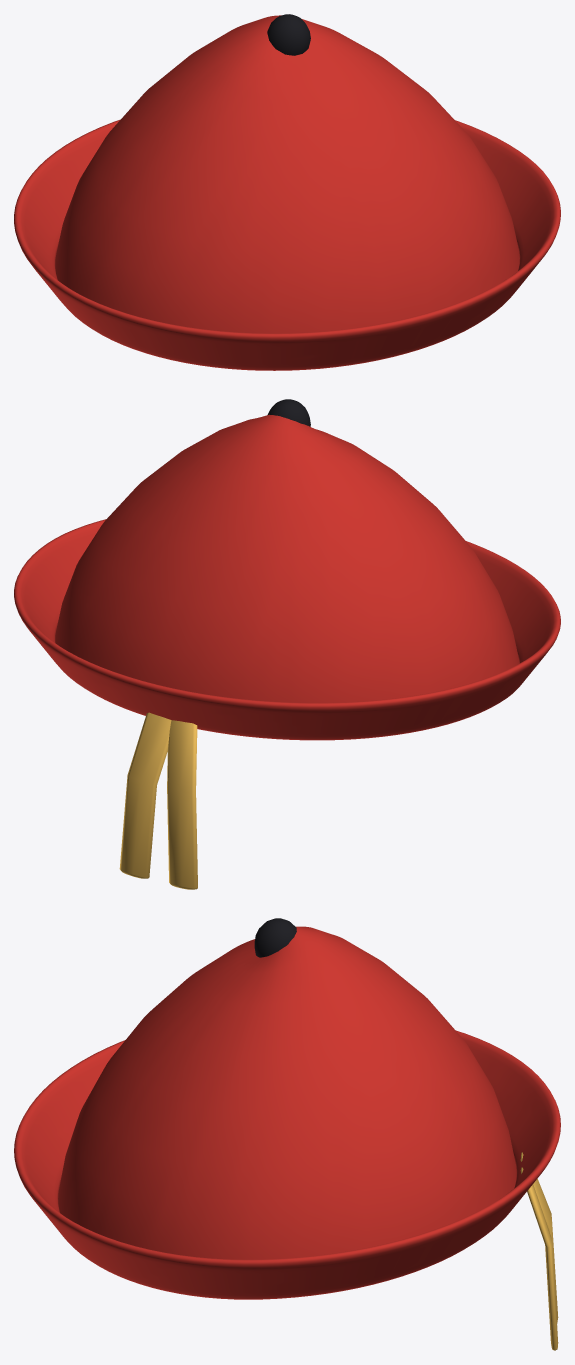
File: hw_janjin.glb
The picture shows the model from 3 angles, top to bottom: view 1: azimuth 30°, elevation 25°; view 2: azimuth 150°, elevation 25°; view 3: azimuth 270°, elevation 25°; orthographic projection. The views are drawn at different scales.
Parts seen in each view (by area): view 1: hw_janjin, hw_janjin_brim, hw_janjin_knot; view 2: hw_janjin, hw_janjin_brim, hw_janjin_rib, hw_janjin_knot; view 3: hw_janjin, hw_janjin_brim, hw_janjin_rib, hw_janjin_knot.
Part boxes in pixels (x1,y1,x2,y2): hw_janjin: (55,15,519,333); hw_janjin_brim: (14,119,560,370); hw_janjin_knot: (267,14,310,55); hw_janjin: (55,414,519,702); hw_janjin_brim: (14,519,560,740); hw_janjin_rib: (119,712,197,889); hw_janjin_knot: (267,399,310,426); hw_janjin: (58,926,516,1259); hw_janjin_brim: (14,1030,560,1299); hw_janjin_rib: (520,1152,558,1350); hw_janjin_knot: (254,918,296,957).
Bounding box in the file's own units: 0.9862 × 0.7539 × 0.9034.
